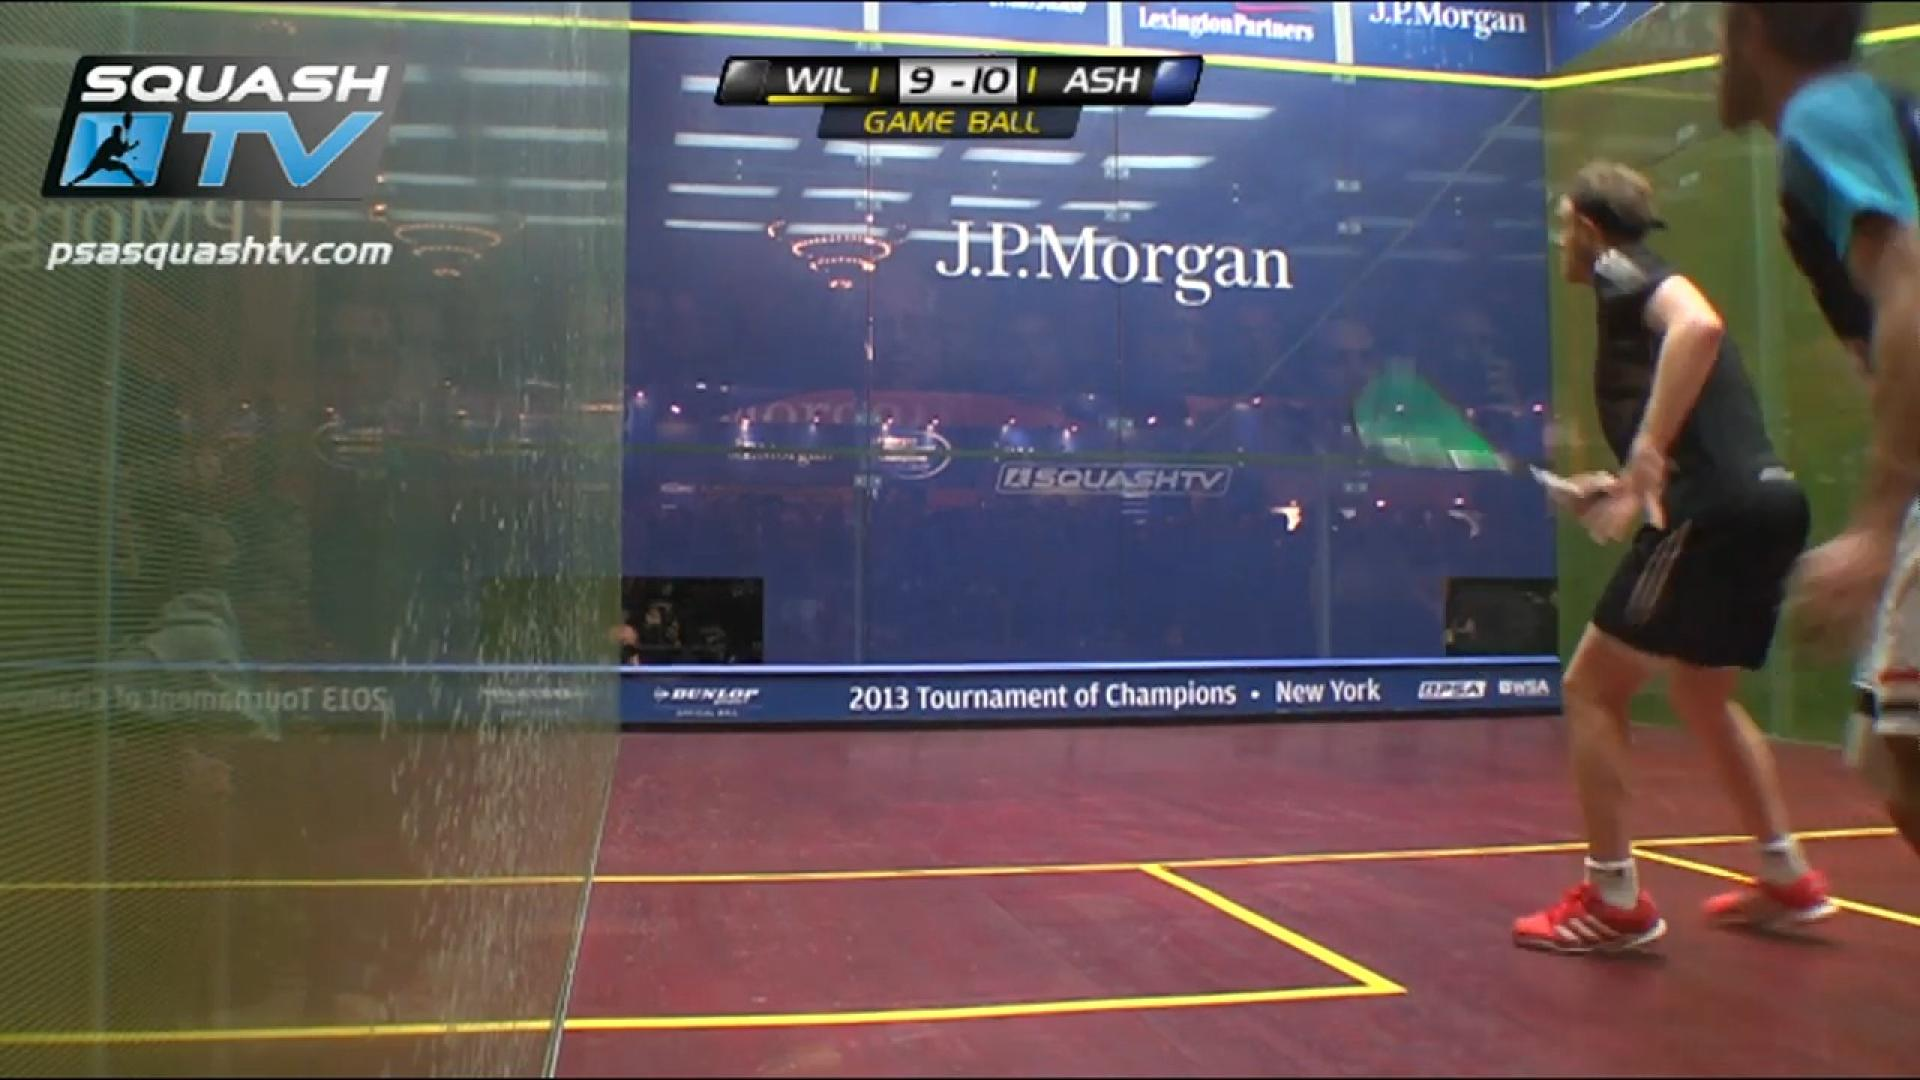Squash-Ball: (688, 368, 717, 402)
